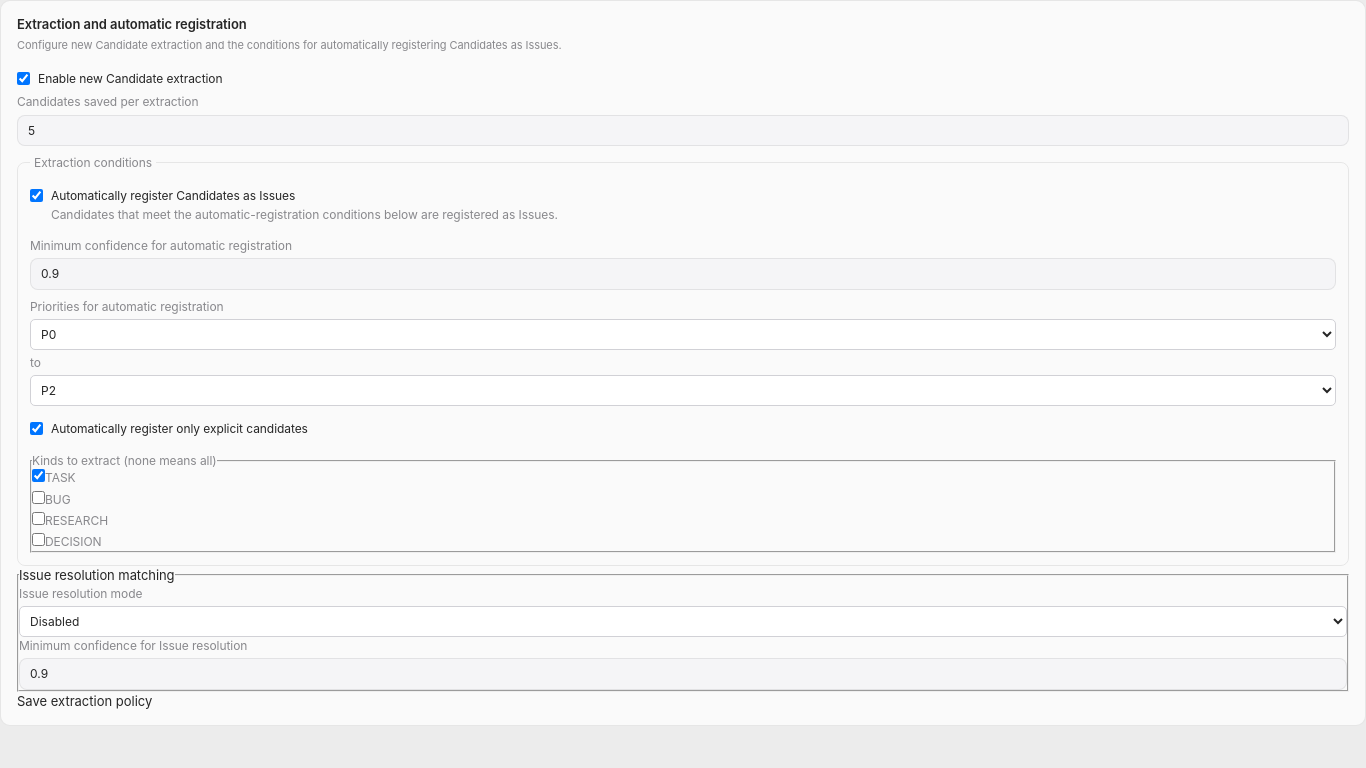
Test case: AutoIssuePolicyCard › does not save an invalid Issue resolution confidence
The width and height of the screenshot is (1366, 768).
Select "Apply automatic resolutions" in the dropdown labelled "Issue resolution mode" at [683, 622], box [19,606,1347,637]
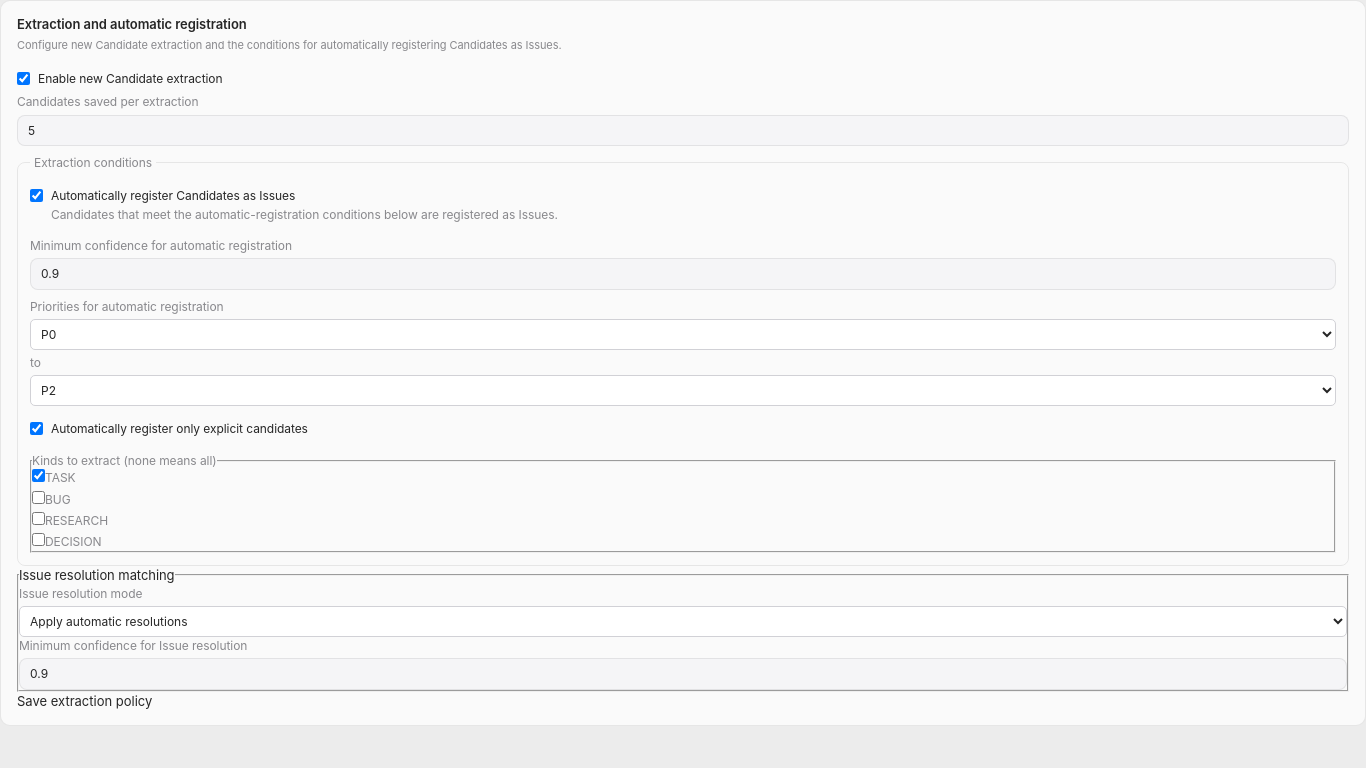
Replace the text in the number field labelled "Minimum confidence for Issue resolution" with "1.1" at [683, 674], box [19,658,1347,690]
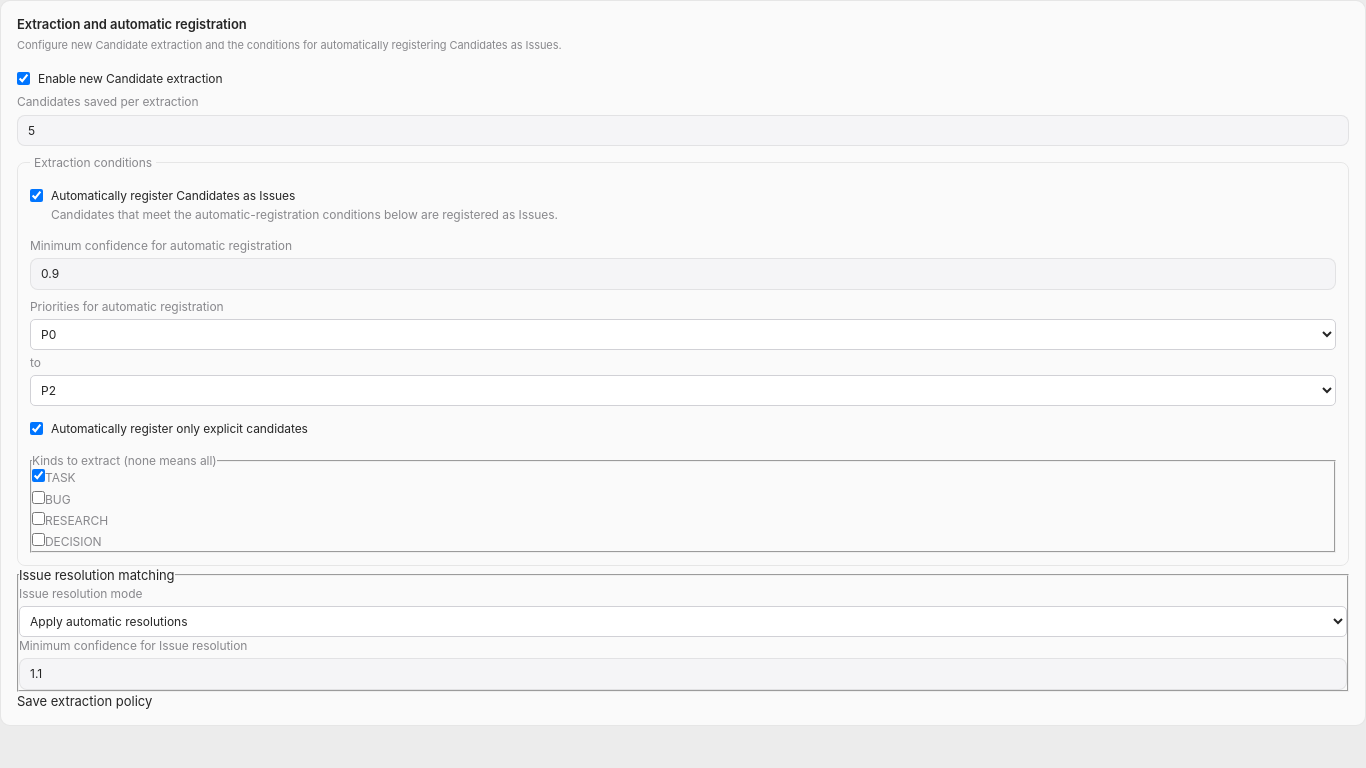
Click the button "Save extraction policy".
click(85, 701)  # box [17,692,152,711]
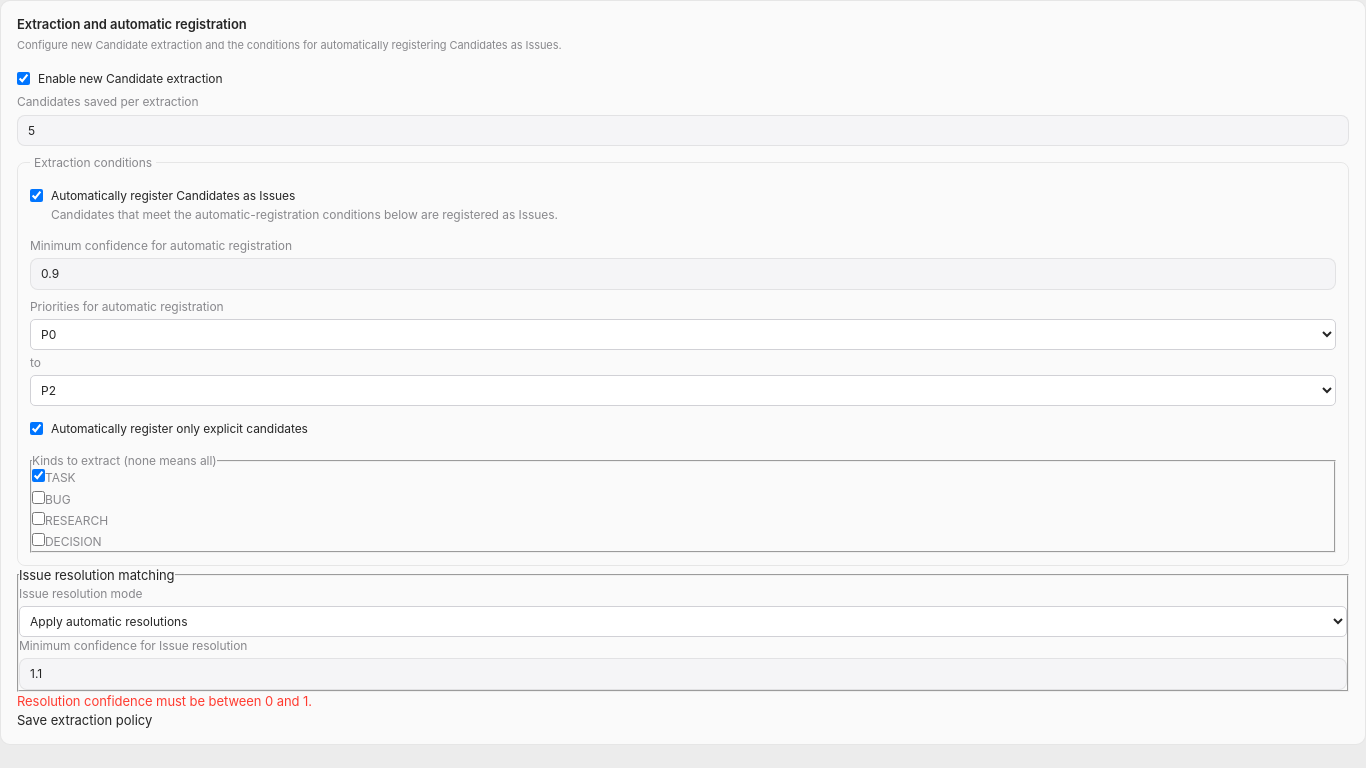
Result: the text "Resolution confidence must be between 0 and 1." is shown at [17,693,312,709]
